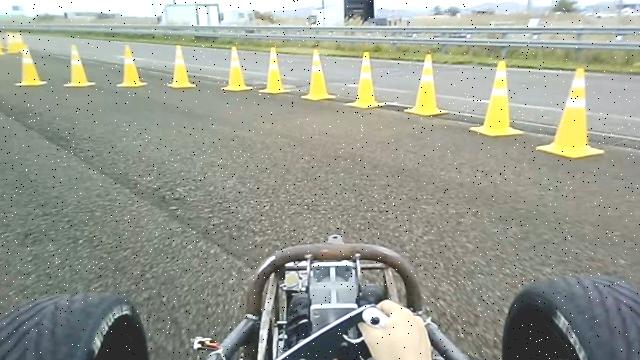blue cone: (278, 252, 384, 351), (359, 304, 433, 360), (306, 0, 374, 26), (361, 305, 389, 328), (344, 0, 375, 20)
yellow cone: (536, 67, 604, 158), (469, 59, 524, 136), (403, 53, 449, 116), (344, 52, 386, 108), (300, 49, 336, 101), (258, 46, 290, 94), (220, 46, 253, 92), (63, 44, 95, 87), (166, 44, 196, 89), (116, 44, 147, 87)
